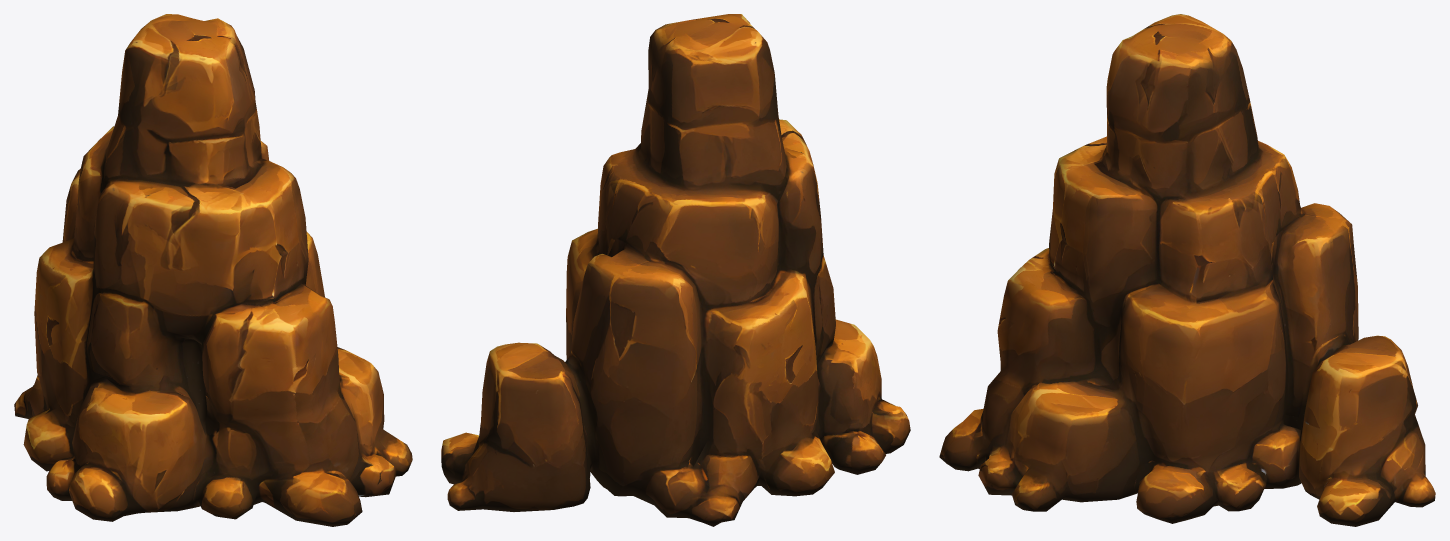
File: pila_de_rocas_2.fbx
The picture shows the model from 3 angles, left to right: view 1: azimuth 30°, elevation 25°; view 2: azimuth 150°, elevation 25°; view 3: azimuth 270°, elevation 25°; orthographic projection. The views are drawn at different scales.
Parts seen in each view (by area): view 1: tripo_node_8647cb5a; view 2: tripo_node_8647cb5a; view 3: tripo_node_8647cb5a.
Part boxes in pixels (x1,y1,x2,y2): tripo_node_8647cb5a: (14,14,412,526); tripo_node_8647cb5a: (441,14,910,526); tripo_node_8647cb5a: (939,14,1435,526).
Bounding box in the file's own units: 75.4 × 91.28 × 99.47.
1 material, 1 textured.
